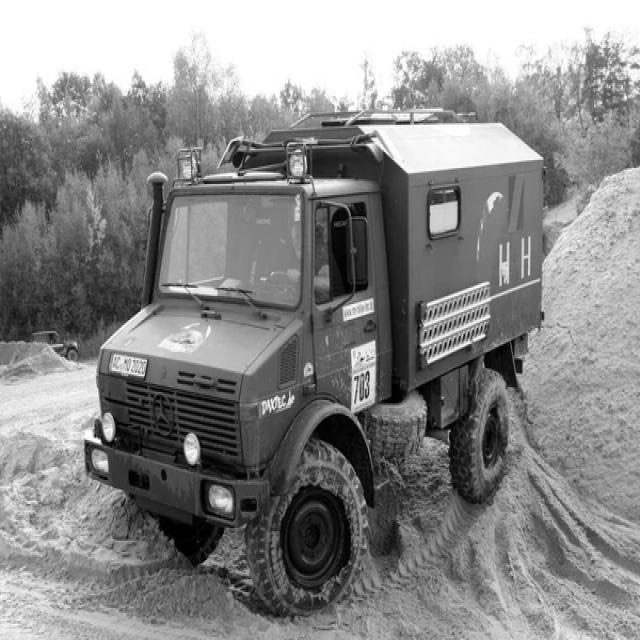Truck: (84, 110, 544, 616)
